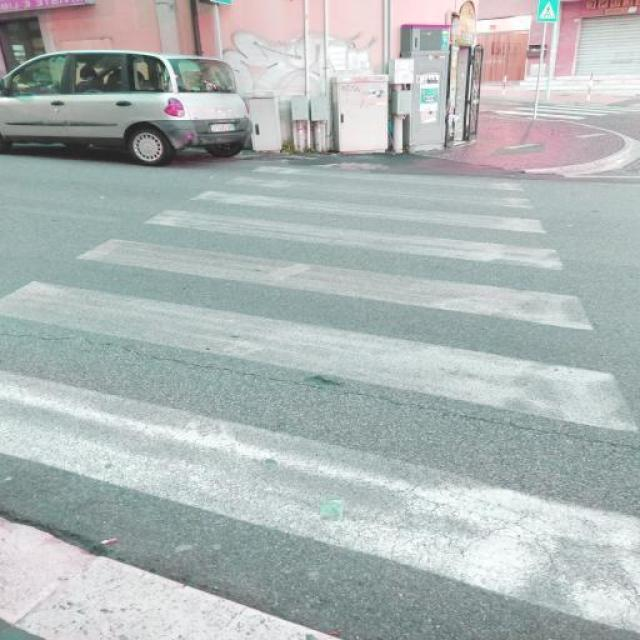crosswalk: (0, 163, 640, 635)
